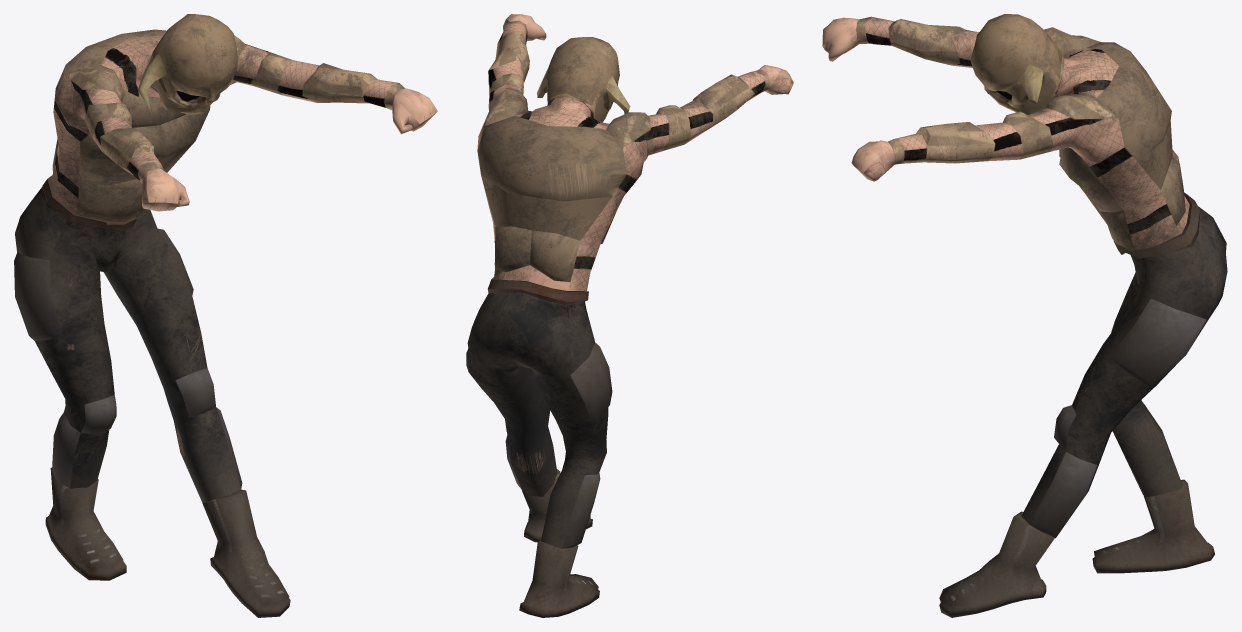
Rendered from Anim_ataque_d3_npc1.0042.obj.
The picture shows the model from 3 angles, left to right: view 1: azimuth 30°, elevation 25°; view 2: azimuth 150°, elevation 25°; view 3: azimuth 270°, elevation 25°; orthographic projection. The views are drawn at different scales.
Parts seen in each view (by area): view 1: NPC2; view 2: NPC2; view 3: NPC2.
Boxes of the visible parts, bbox=[...] form: NPC2: bbox=[14, 14, 437, 617]; NPC2: bbox=[466, 14, 793, 617]; NPC2: bbox=[822, 14, 1227, 617].
Bounding box in the file's own units: 4.7 × 8.45 × 5.4.
